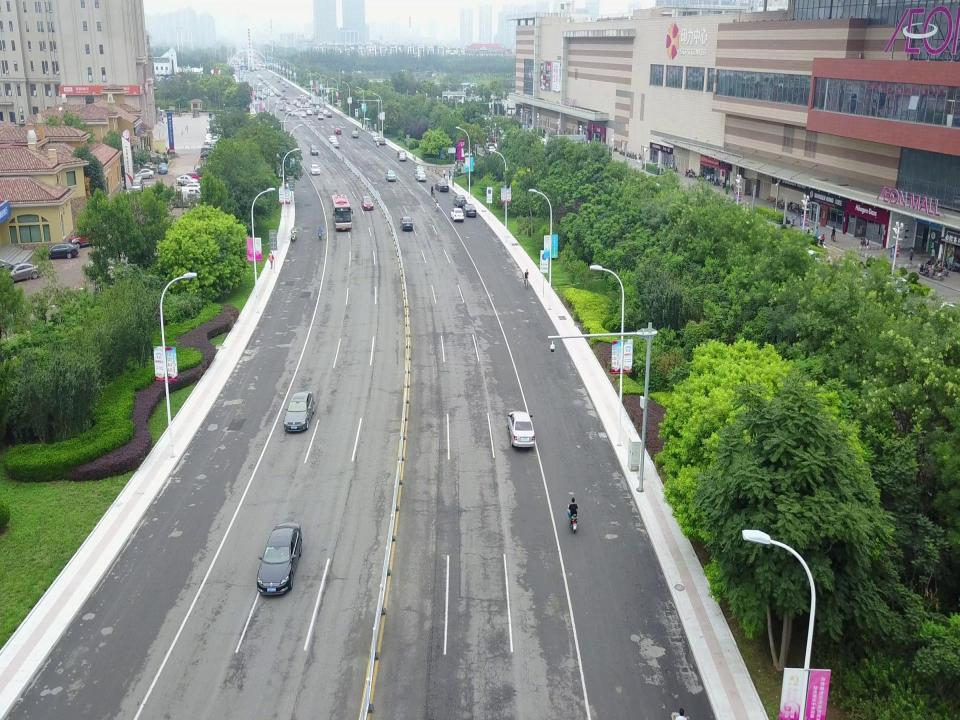bus: (331, 193, 353, 232)
car: (257, 520, 303, 597), (284, 388, 314, 435), (508, 409, 534, 450), (69, 225, 107, 249), (2, 262, 42, 283), (44, 241, 79, 258), (180, 183, 206, 193), (180, 188, 202, 199), (450, 207, 464, 223), (175, 175, 199, 184), (360, 196, 374, 211), (133, 168, 154, 178), (400, 216, 413, 232), (463, 204, 477, 218), (453, 194, 467, 207), (435, 180, 449, 193), (200, 150, 219, 159), (181, 172, 199, 181), (200, 147, 218, 155), (385, 170, 396, 182), (310, 163, 320, 176), (204, 138, 222, 145), (157, 163, 168, 174), (414, 171, 426, 181), (414, 164, 425, 174), (485, 146, 497, 154), (396, 149, 406, 158), (310, 146, 318, 156), (328, 135, 338, 143), (399, 152, 407, 161), (351, 130, 359, 139), (334, 127, 342, 136), (290, 110, 302, 116), (332, 140, 340, 148), (378, 137, 386, 145), (373, 134, 380, 142), (284, 111, 296, 115), (280, 95, 289, 100), (318, 113, 324, 120), (305, 109, 312, 115), (300, 111, 306, 118), (275, 98, 281, 105), (326, 112, 332, 118), (322, 109, 328, 115), (314, 109, 320, 115), (318, 107, 324, 113), (279, 105, 285, 111), (283, 107, 291, 111), (295, 101, 301, 106), (286, 99, 290, 105), (316, 105, 320, 110), (296, 103, 301, 107), (293, 99, 297, 104), (276, 79, 280, 83), (285, 84, 289, 88), (282, 88, 286, 92), (281, 82, 285, 85), (271, 75, 274, 78)
truck: (312, 97, 320, 106)
van: (169, 191, 196, 207), (132, 176, 144, 193), (299, 105, 312, 113), (296, 108, 306, 115)
